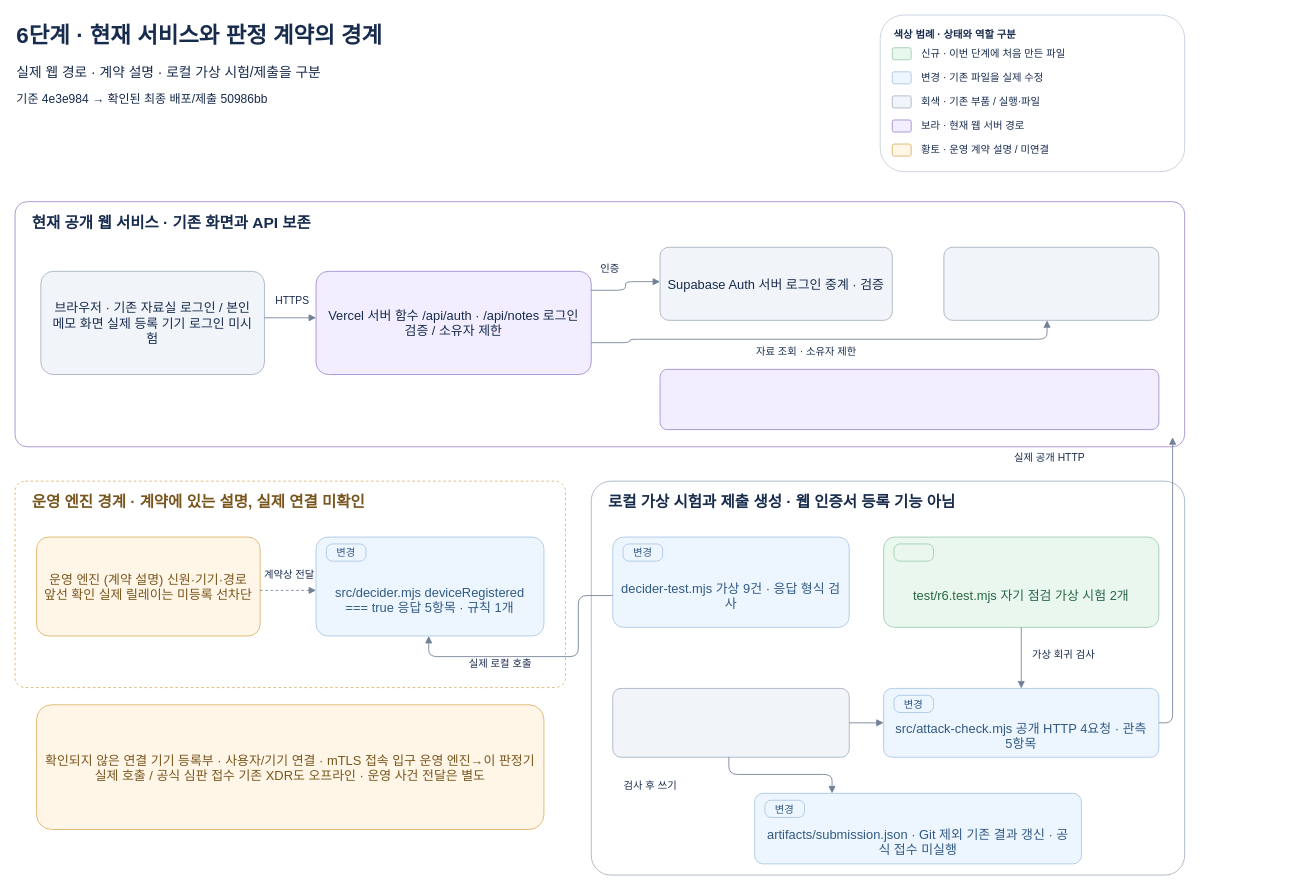
The diagram is 1304 pixels wide and 890 high, and some of its shapes have lost their labels. Here are the shapes that lost their labels. From the top down, the centre of each, then its label:
At point 1051,283: "자료 API / DB 소유자 범위 · 기존 정책".
At point 909,399: "현재 경로는 일반 HTTPS · 메모 API에서 decider 호출 없음 클라이언트 인증서 없이 TLS 성공: 화면 200 / 무로그인 401".
At point 913,552: "신규".
At point 730,722: "scripts/bundle.mjs 깨끗한 Git · 설정·설명 읽기".
